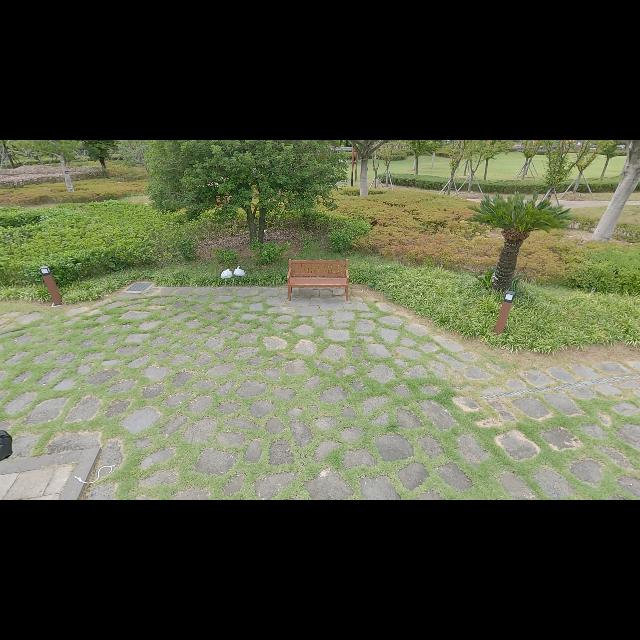trash: (219, 268, 233, 280), (233, 264, 244, 278)
